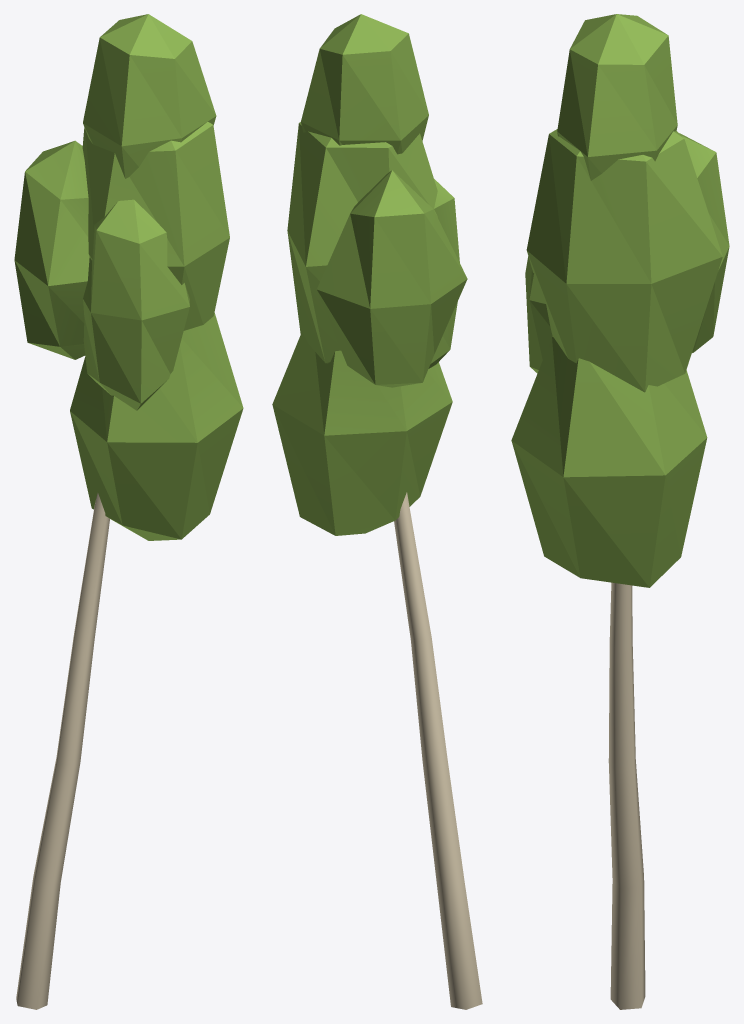
Rendered from birch_1.glb.
The picture shows the model from 3 angles, left to right: view 1: azimuth 30°, elevation 25°; view 2: azimuth 150°, elevation 25°; view 3: azimuth 270°, elevation 25°; orthographic projection. The views are drawn at different scales.
Parts seen in each view (by area): view 1: birch_1; view 2: birch_1; view 3: birch_1.
Boxes of the visible parts, bbox=[...] form: birch_1: bbox=[14, 14, 243, 1009]; birch_1: bbox=[272, 14, 482, 1009]; birch_1: bbox=[511, 14, 729, 1009].
Bounding box in the file's own units: 1.61 × 7.56 × 1.43.
